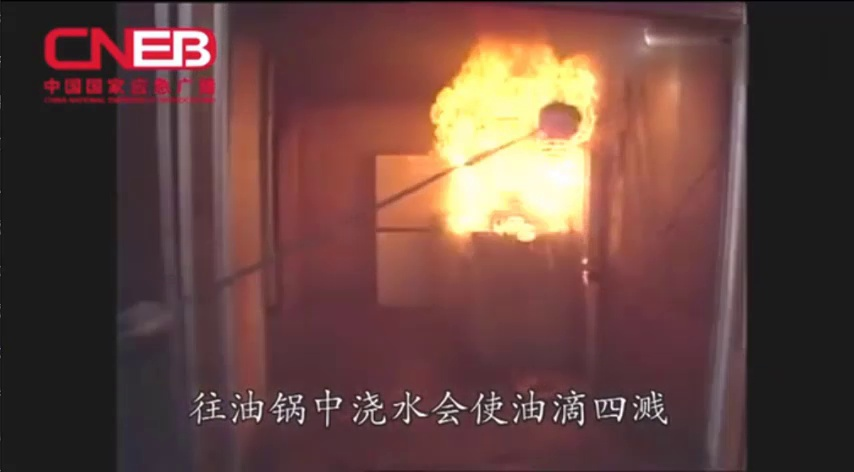fire: (418, 22, 610, 253)
